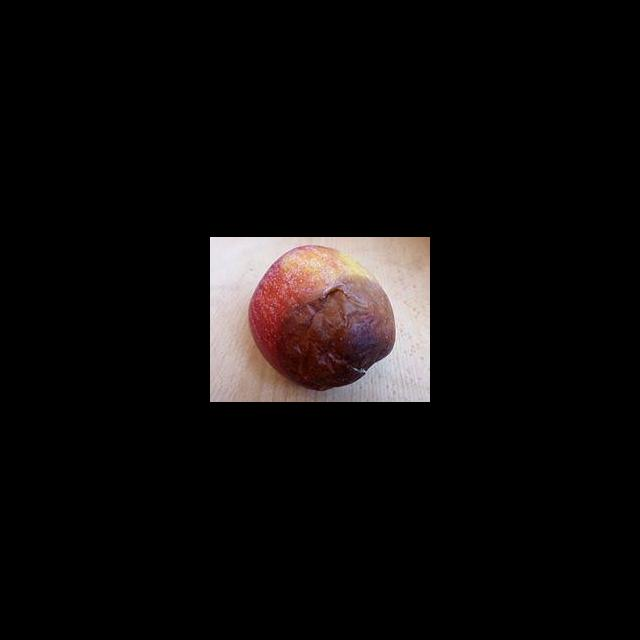food_waste: (237, 247, 411, 397)
